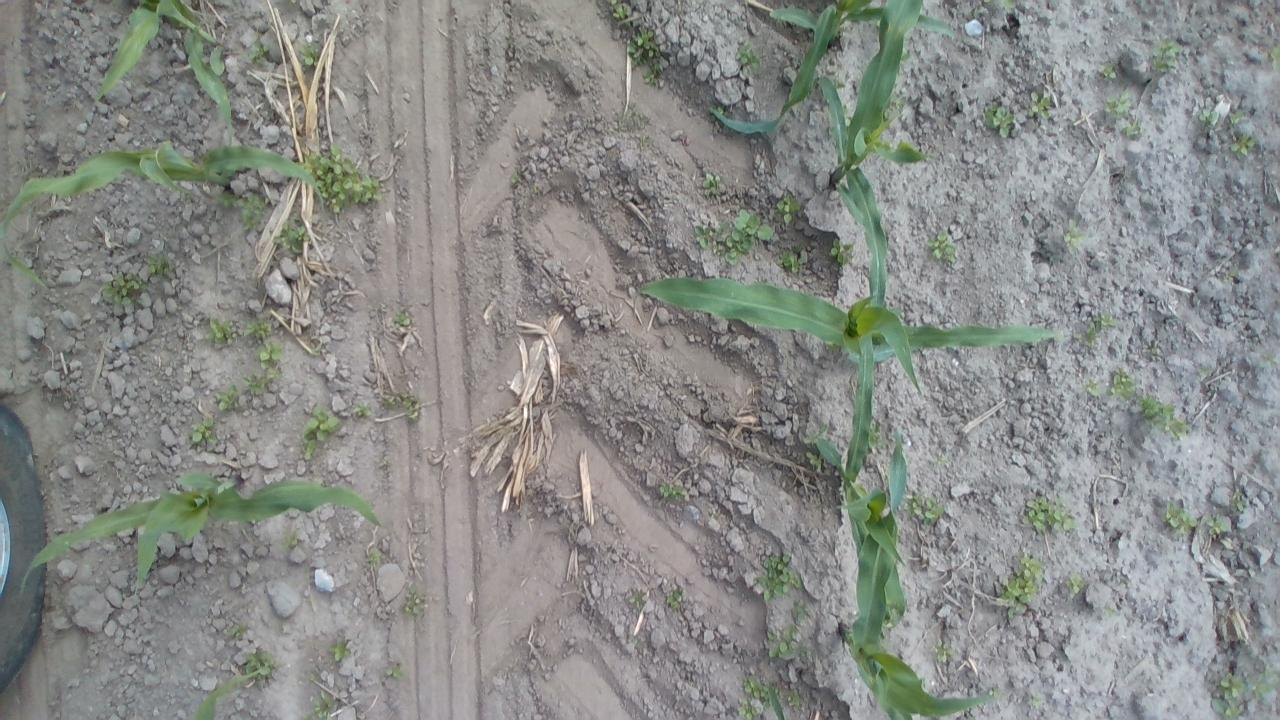Maize: (636, 273, 1058, 496), (1, 141, 327, 282), (839, 436, 997, 720), (21, 471, 380, 589), (816, 0, 926, 313), (710, 0, 953, 136), (94, 0, 234, 136), (806, 436, 906, 623), (194, 667, 262, 720)
Weeds: (298, 142, 382, 212), (692, 208, 776, 266), (242, 316, 286, 395), (1216, 668, 1280, 720), (999, 552, 1044, 620), (753, 550, 801, 604), (1021, 492, 1080, 534), (766, 602, 811, 657), (214, 188, 266, 234), (1140, 395, 1190, 440), (301, 402, 339, 460), (738, 674, 779, 720), (98, 270, 146, 305), (902, 492, 944, 528), (735, 36, 769, 80), (1161, 499, 1198, 538), (626, 26, 662, 63), (982, 101, 1016, 140), (1148, 38, 1182, 74), (384, 390, 419, 422), (275, 220, 307, 254), (1108, 364, 1138, 400), (1062, 218, 1089, 258), (302, 690, 337, 720), (246, 648, 276, 682), (204, 316, 238, 346), (928, 229, 957, 264), (401, 582, 428, 618), (776, 192, 803, 226), (188, 416, 218, 446), (606, 0, 634, 30), (620, 103, 651, 130), (776, 247, 808, 273), (1106, 89, 1134, 116), (974, 0, 1015, 18), (830, 236, 856, 264), (216, 382, 242, 410), (298, 40, 320, 72), (1028, 91, 1054, 118), (328, 640, 356, 664), (1230, 132, 1256, 157), (244, 43, 272, 65), (146, 252, 174, 273), (1076, 322, 1099, 346), (884, 94, 906, 118), (643, 61, 663, 87), (1205, 517, 1231, 537), (658, 483, 688, 499), (1230, 487, 1248, 513), (934, 640, 955, 662), (868, 419, 882, 450), (278, 532, 299, 552), (1096, 62, 1120, 79), (711, 100, 728, 124), (1095, 312, 1119, 328), (224, 622, 248, 638), (1083, 376, 1102, 396), (702, 172, 719, 194), (666, 589, 684, 609), (1068, 574, 1086, 594), (1122, 121, 1140, 140), (353, 402, 372, 419), (391, 310, 411, 326), (1198, 110, 1220, 124), (1269, 44, 1280, 72), (876, 139, 898, 153), (786, 688, 801, 708), (368, 543, 383, 562), (804, 426, 818, 446), (384, 666, 404, 678), (900, 46, 912, 66), (806, 452, 822, 466), (1228, 111, 1242, 125), (832, 77, 846, 90), (1031, 694, 1041, 711), (248, 516, 262, 528), (989, 686, 1001, 699), (842, 103, 852, 117), (304, 346, 321, 354), (1224, 270, 1236, 281), (1199, 367, 1213, 376), (628, 596, 642, 604), (510, 174, 520, 184), (936, 456, 948, 464)
